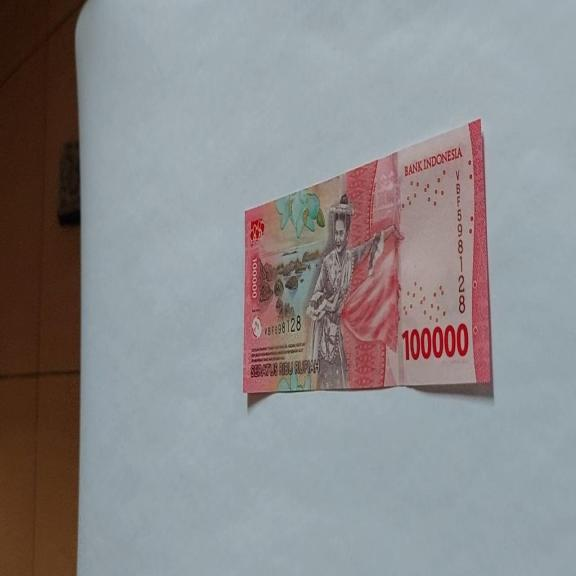Kertas: (401, 321, 469, 362)
